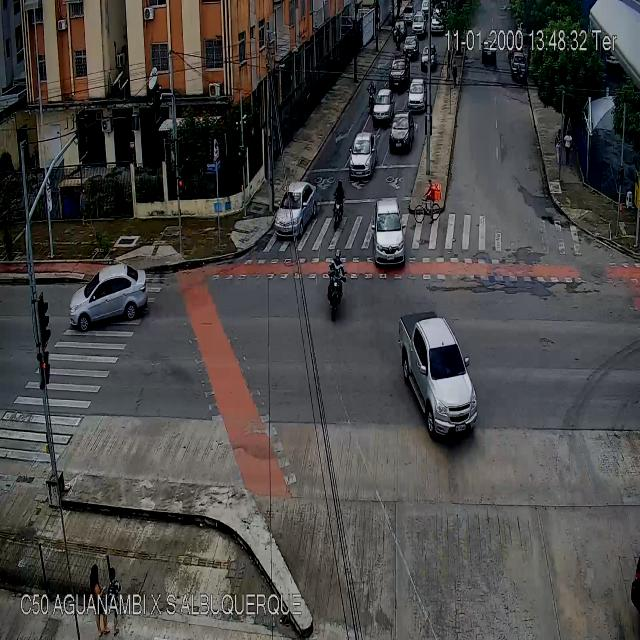Car: (397, 309, 478, 442), (69, 264, 147, 331), (276, 179, 317, 236), (374, 200, 404, 269), (348, 132, 378, 183), (389, 112, 413, 151), (375, 85, 393, 122), (408, 76, 426, 112), (388, 56, 408, 84), (480, 40, 497, 68), (432, 9, 446, 38), (422, 44, 437, 70), (510, 56, 524, 79), (412, 14, 426, 36), (405, 33, 418, 56), (403, 6, 414, 25)
Motorcycle: (327, 248, 345, 321), (332, 180, 344, 236), (368, 81, 374, 114), (516, 64, 522, 82)
